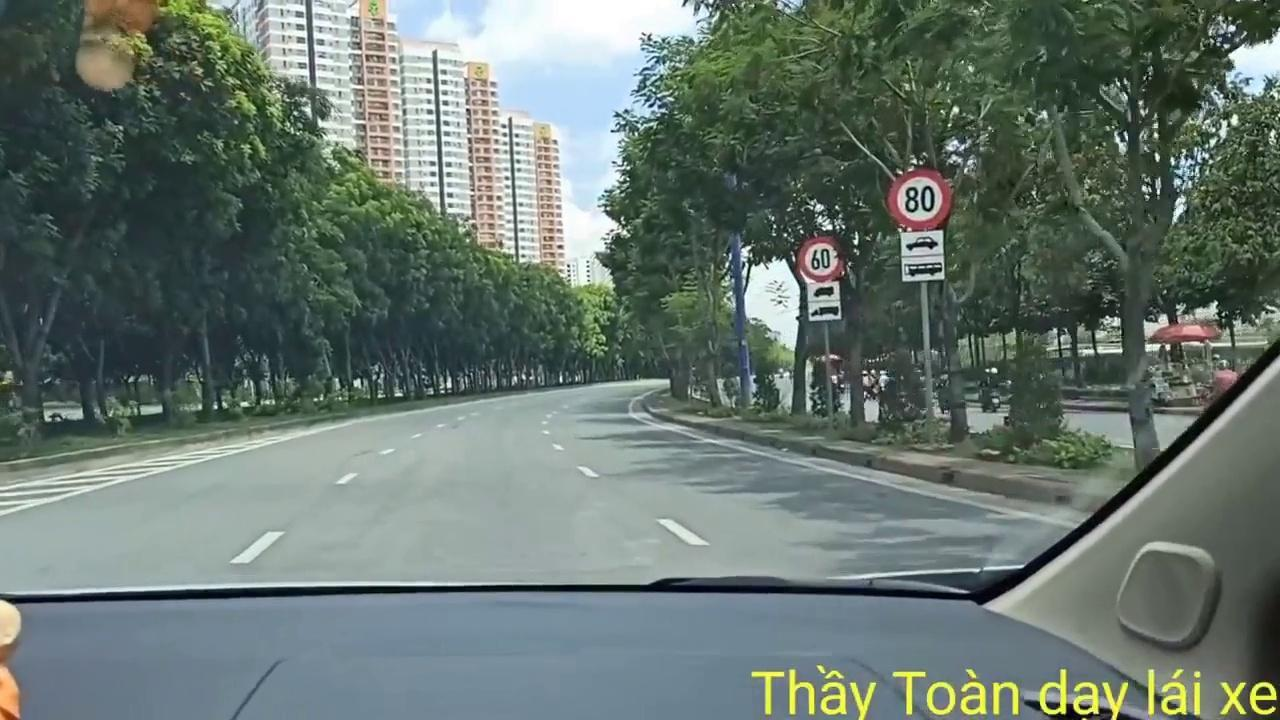Biển phụ: (899, 232, 946, 280), (805, 284, 841, 321)
GIơi hạn tốc độ 60Km/h: (796, 231, 846, 283)
Giới hạn tốc độ 80Km/h: (885, 166, 951, 230)
